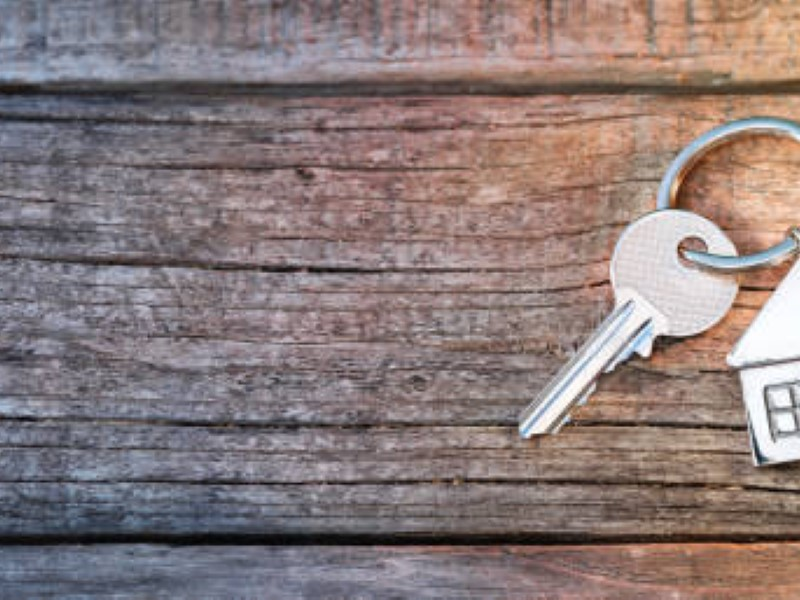key: (515, 206, 743, 443)
